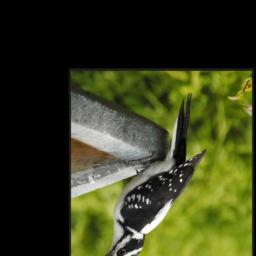Woodpecker: (91, 91, 206, 256)
